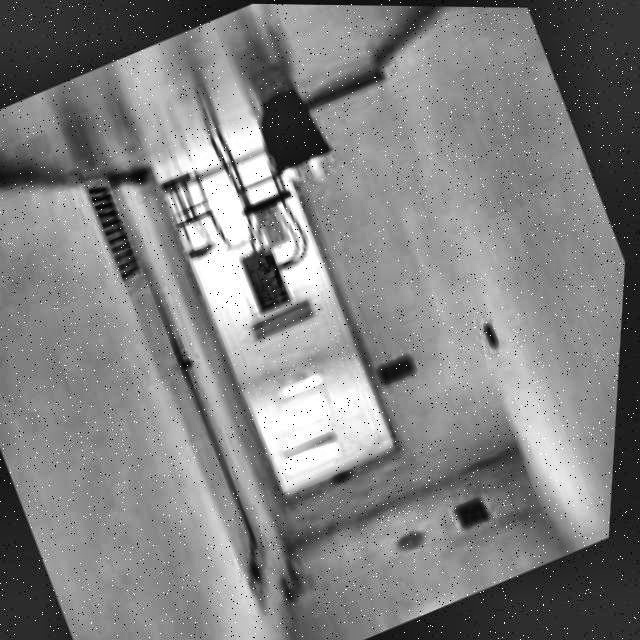Fire: (284, 150, 336, 191)
